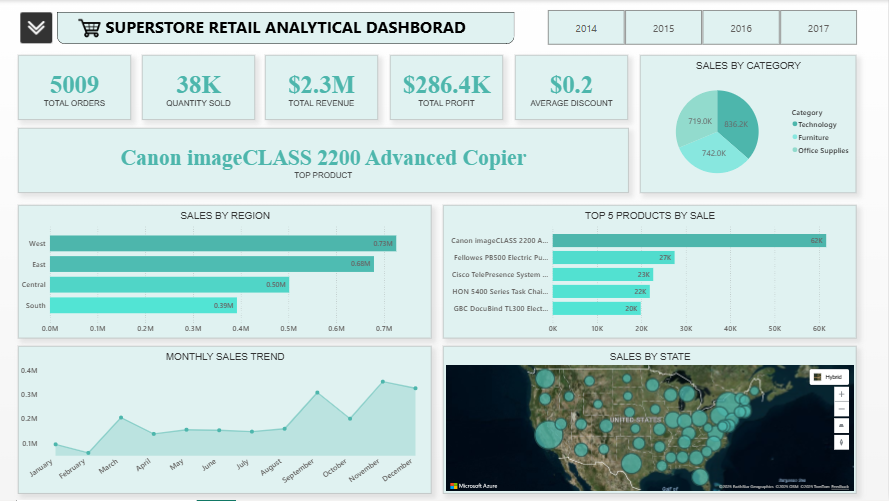

Layout of this report page (visuals, bound fields, positions):
{"tool":"powerbi","page":{"name":"Superstore Retail Insights","canvas":[1920,1080],"ordinal":0},"visuals":[{"type":"shape","box":[126.2,26.2,988.1,69],"z":0},{"type":"card","fields":{"Values":["_Measures.Total Orders"]},"box":[40.7,118.9,244.2,139.5],"z":1000},{"type":"image","box":[41.6,21,79.1,76.7],"z":2000},{"type":"image","box":[162.6,25.7,69.8,69.8],"z":3000},{"type":"card","fields":{"Values":["_Measures.Total Revenue"]},"box":[575.6,118.9,244.2,139.5],"z":4000},{"type":"card","fields":{"Values":["_Measures.Total Profit"]},"box":[845.4,118.9,244.2,139.5],"z":5000},{"type":"card","fields":{"Values":["_Measures.Quantity Sold"]},"box":[308.2,118.9,244.2,139.5],"z":6000},{"type":"card","fields":{"Values":["_Measures.Average Discount"]},"box":[1115.2,118.9,244.2,139.5],"z":7000},{"type":"card","fields":{"Values":["Min(Superstore Sales Dataset.Product Name)"]},"box":[40.7,277.1,1318.6,139.5],"z":8000},{"type":"pieChart","title":"SALES BY CATEGORY","fields":{"Y":["Sum(Superstore Sales Dataset.Sales)"],"Category":["Superstore Sales Dataset.Category"]},"box":[1384.8,119.8,466.7,297.6],"z":9000},{"type":"slicer","fields":{"Values":["Superstore Sales Dataset.Year"]},"box":[1159.5,14.3,716.7,88.1],"z":10000},{"type":"barChart","title":"SALES BY REGION","fields":{"Y":["Sum(Superstore Sales Dataset.Sales)"],"Category":["Superstore Sales Dataset.Region"]},"box":[40.5,442.9,892.9,288.1],"z":11000},{"type":"barChart","title":"TOP 5 PRODUCTS BY SALE","fields":{"Y":["Sum(Superstore Sales Dataset.Sales)"],"Category":["Superstore Sales Dataset.Product Name"]},"box":[959.5,442.9,892.9,288.1],"z":12000},{"type":"lineChart","title":"MONTHLY SALES TREND","fields":{"Y":["Sum(Superstore Sales Dataset.Sales)"],"Category":["Superstore Sales Dataset.Order Date.Variation.Date Hierarchy.Month"]},"box":[40.5,747.6,892.9,319],"z":13000},{"type":"azureMap","title":"SALES BY STATE","fields":{"Size":["Sum(Superstore Sales Dataset.Sales)"],"Category":["Superstore Sales Dataset.State"]},"box":[959.5,747.6,892.9,319],"z":14000}]}

Visuals, with their boxes in screenshot pixels (x1, y1, x2, y2), scaled from the page's 1920x1080 canvas onto the 889x501 screenshot:
shape: 58 12 516 44
card - _Measures.Total Orders: 19 55 132 120
image: 19 10 56 45
image: 75 12 108 44
card - _Measures.Total Revenue: 267 55 380 120
card - _Measures.Total Profit: 391 55 505 120
card - _Measures.Quantity Sold: 143 55 256 120
card - _Measures.Average Discount: 516 55 629 120
card - Min(Superstore Sales Dataset.Product Name): 19 129 629 193
"SALES BY CATEGORY" pieChart: 641 56 857 194
slicer - Superstore Sales Dataset.Year: 537 7 869 48
"SALES BY REGION" barChart: 19 205 432 339
"TOP 5 PRODUCTS BY SALE" barChart: 444 205 858 339
"MONTHLY SALES TREND" lineChart: 19 347 432 495
"SALES BY STATE" azureMap: 444 347 858 495
